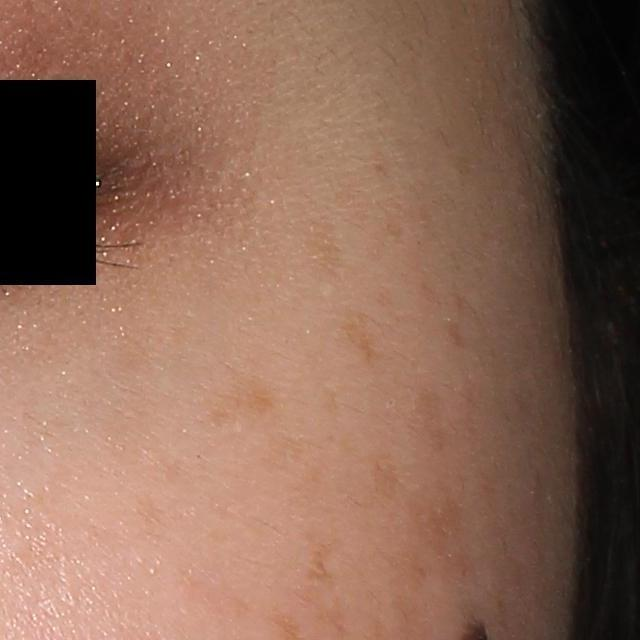melasma: (198, 370, 287, 431), (296, 215, 355, 291), (342, 300, 386, 373), (405, 387, 449, 459), (363, 448, 406, 507), (301, 540, 337, 586), (441, 319, 465, 350)
